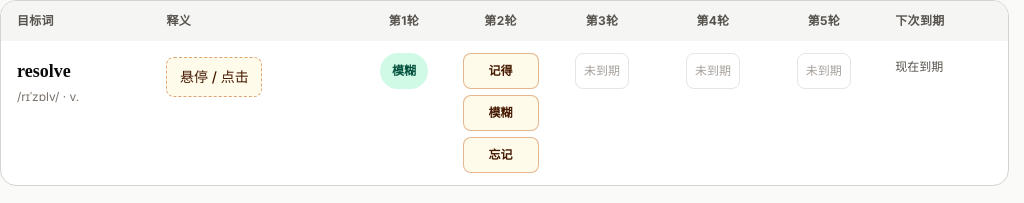
Test: StoryReviewTable › submits 记得 with the exact remembered identifier
Click the button with aria-label "resolve 第2轮：记得" at (501, 71), box [463, 53, 538, 89]
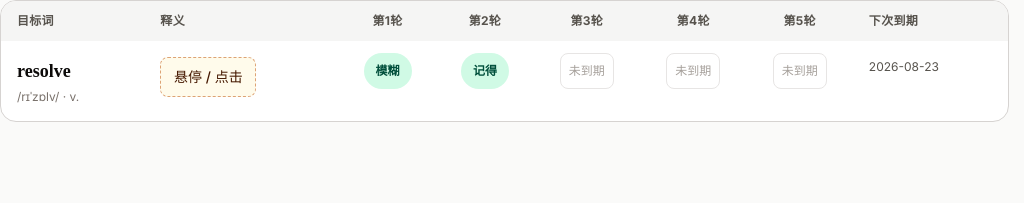
Expected: the cell "记得" is shown, [436, 41, 534, 121]
Expected: the row "resolve /rɪˈzɒlv/ · v. 悬停 / 点击 模糊 记得 未到期 未到期 未到期 2026-08-23" is shown, [1, 41, 1008, 121]
